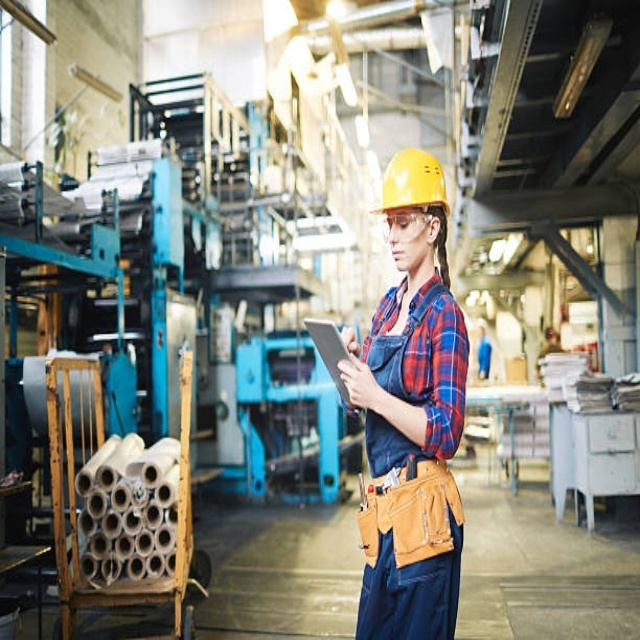Gafas: (381, 210, 431, 241)
Sin_guantes: (337, 356, 378, 413)
Sin_mascara: (388, 243, 410, 275)
